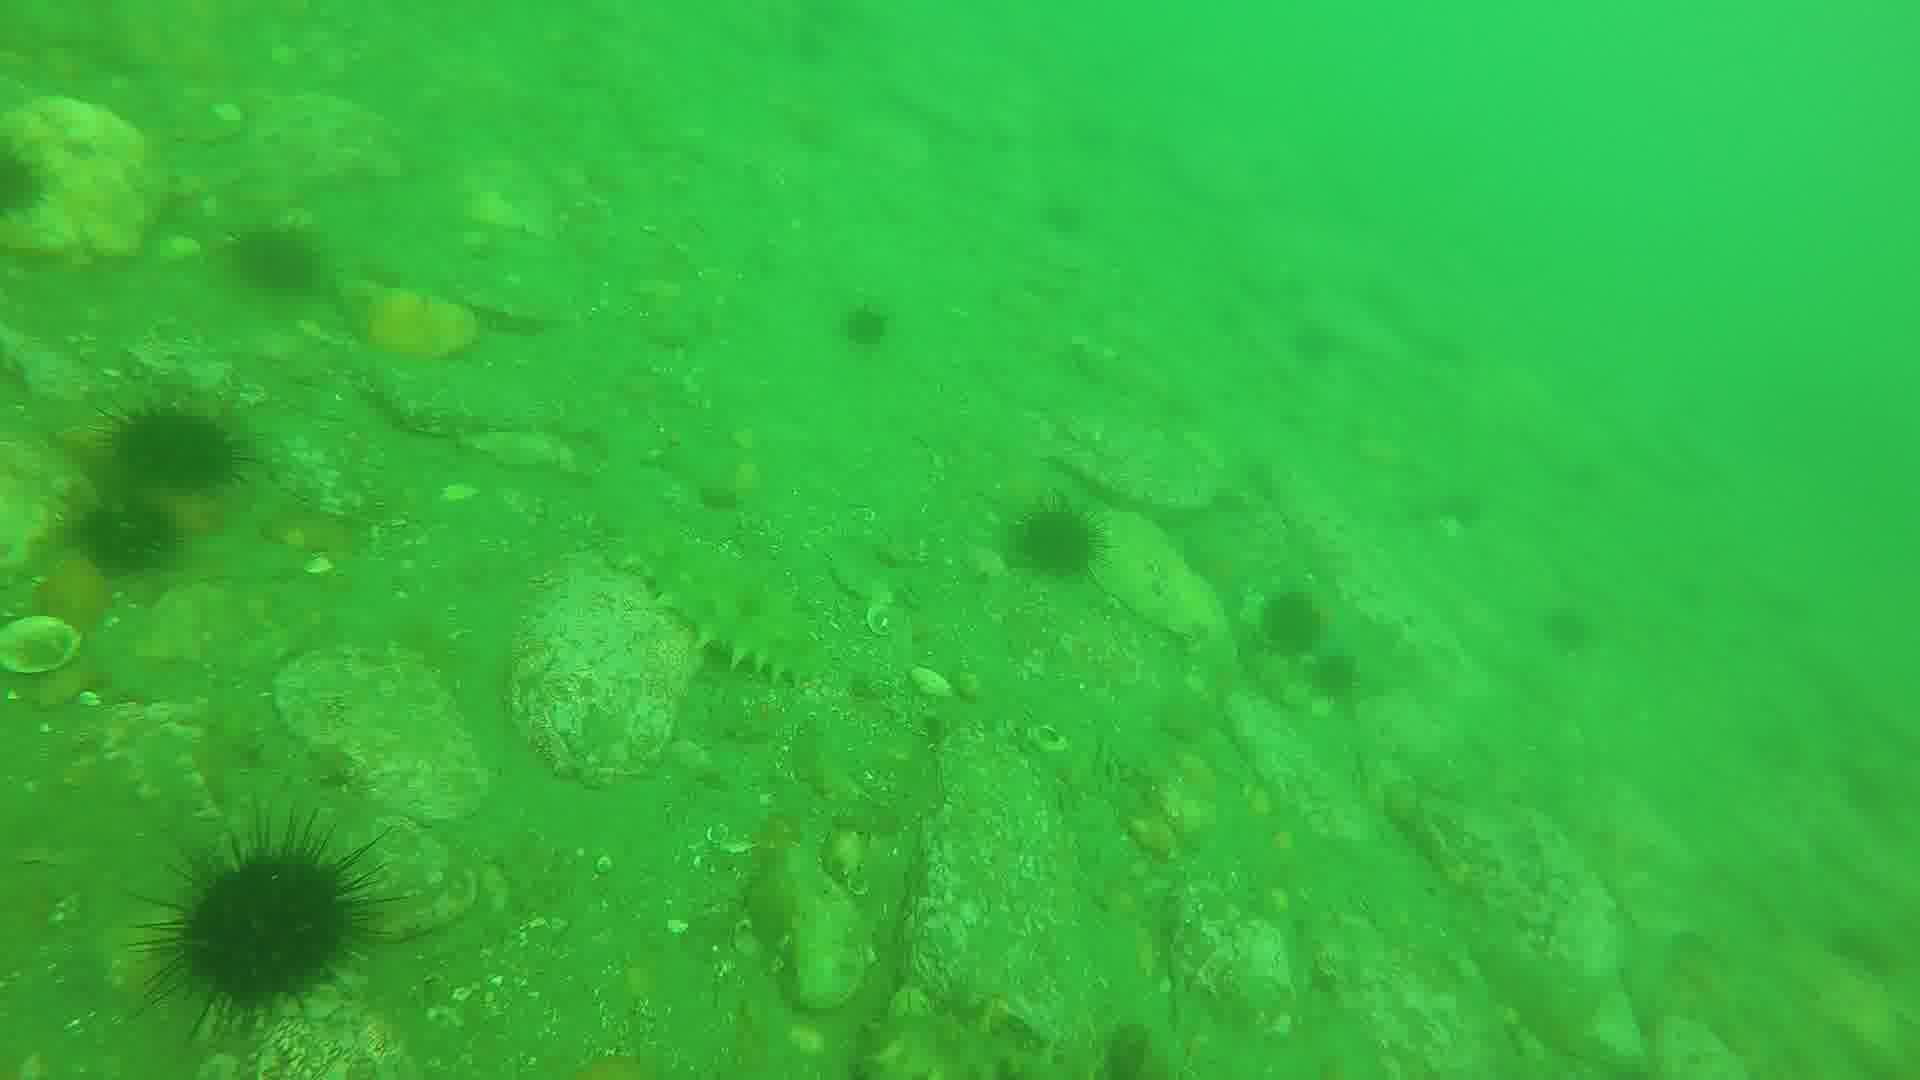echinus: (145, 827, 385, 1023), (96, 398, 249, 495), (76, 483, 167, 578), (1021, 496, 1106, 580), (229, 227, 323, 303), (1258, 584, 1329, 658), (1, 146, 58, 218), (1309, 644, 1365, 702), (1284, 323, 1342, 367), (1549, 605, 1596, 657), (1046, 193, 1089, 244), (841, 303, 891, 345)
holothurian: (604, 498, 827, 679), (857, 1009, 1027, 1080)
scallop: (1, 607, 90, 684), (868, 603, 903, 642)
